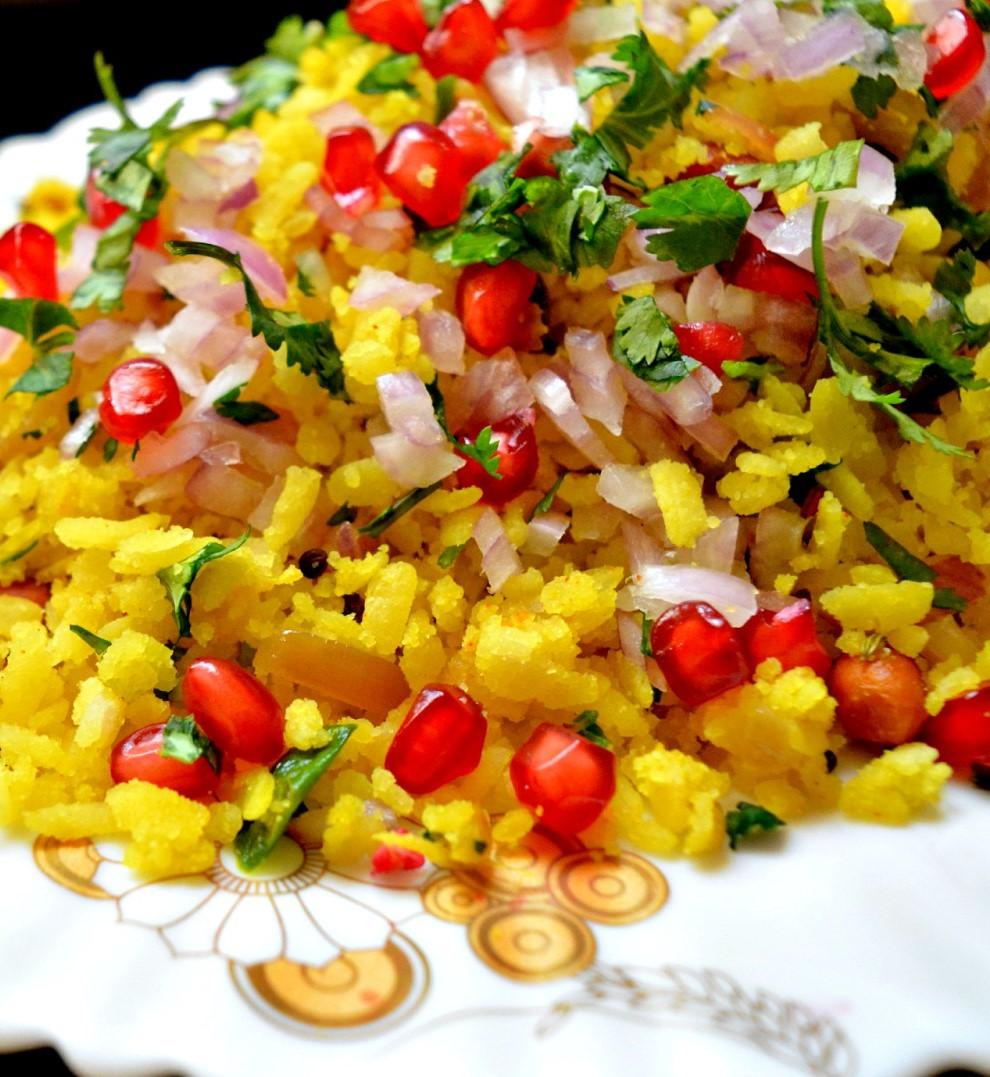Poha: (8, 0, 990, 1077)
